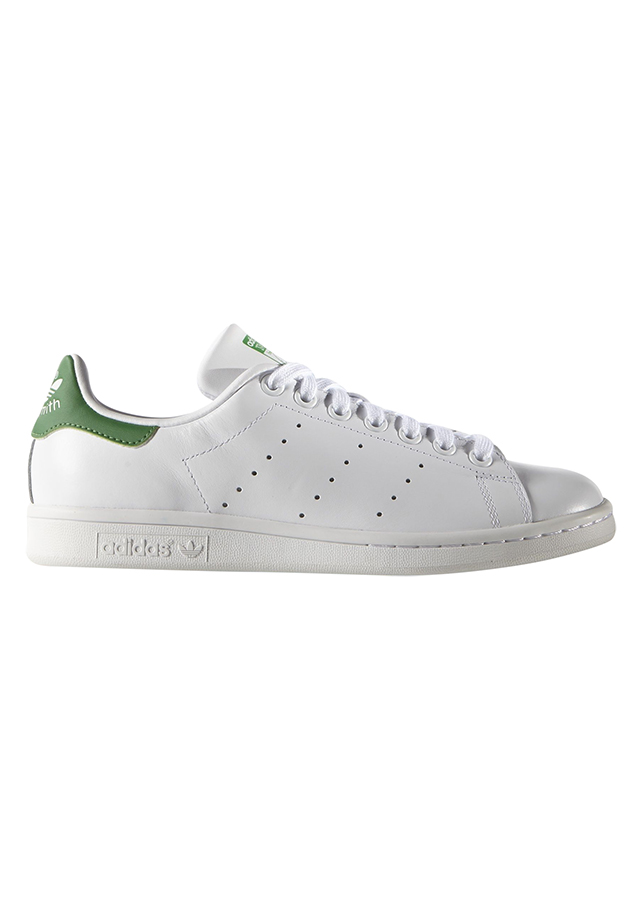Adidas: (97, 534, 207, 565)
